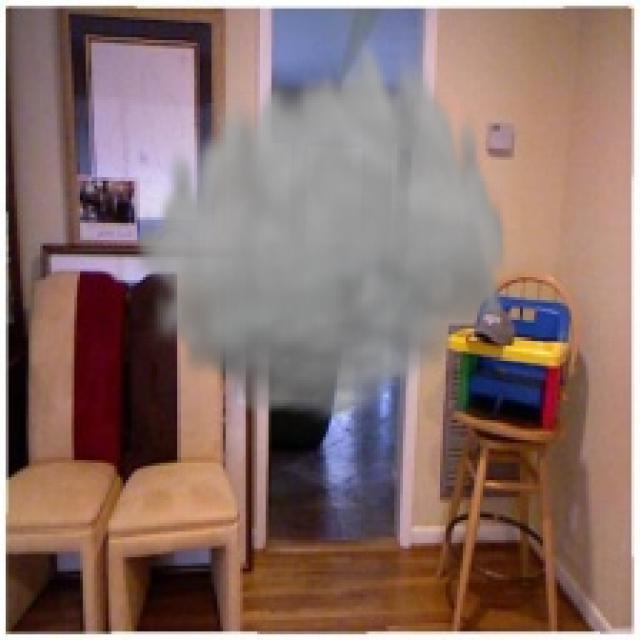Smoke: (128, 22, 512, 428)
